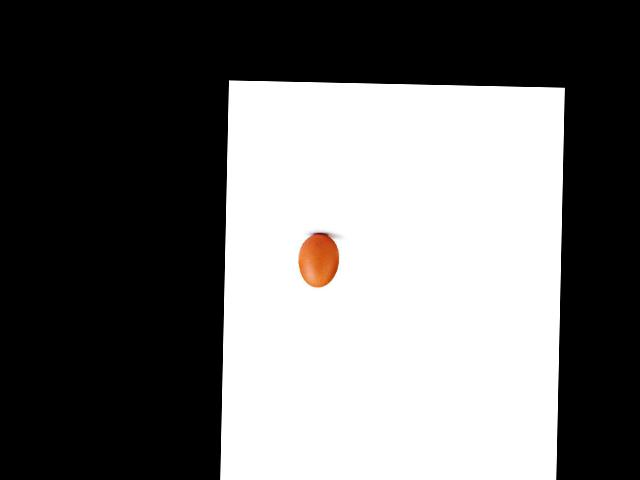egg: (298, 233, 339, 287)
